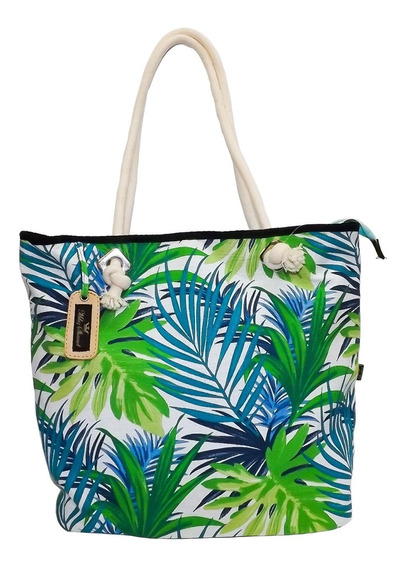cartera: (18, 25, 364, 540)
